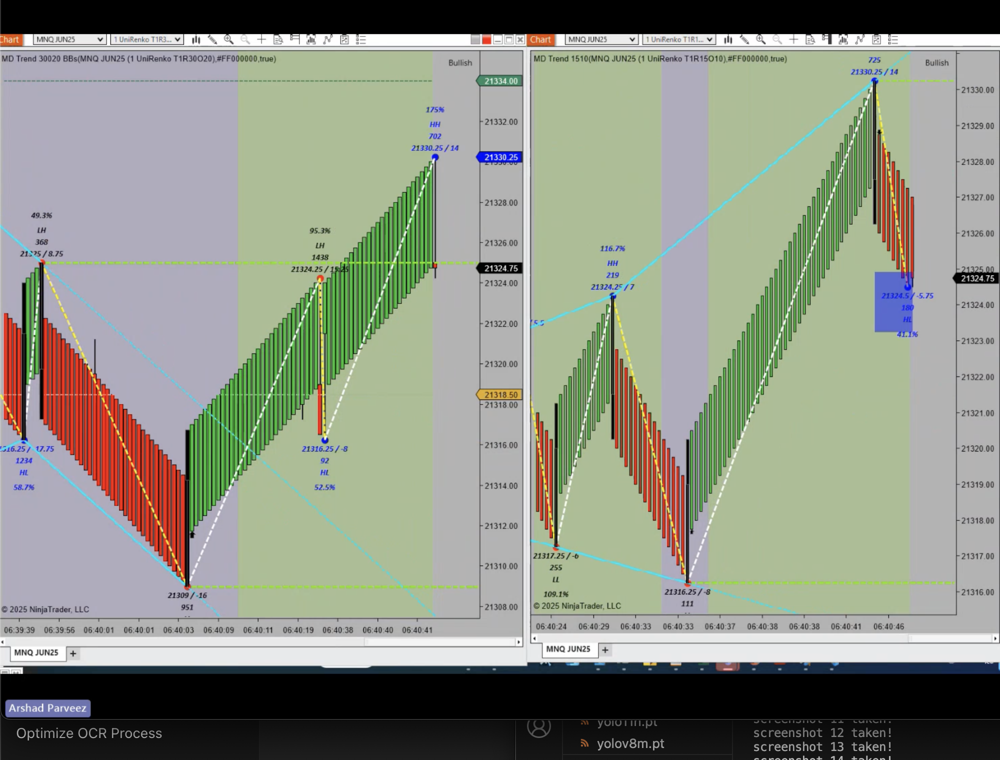HH: (604, 255, 624, 272), (426, 117, 447, 133)
HL: (899, 306, 919, 329), (15, 464, 34, 480), (315, 463, 334, 479)
LH: (33, 222, 50, 237), (311, 237, 329, 251)
LL: (546, 569, 566, 589)
